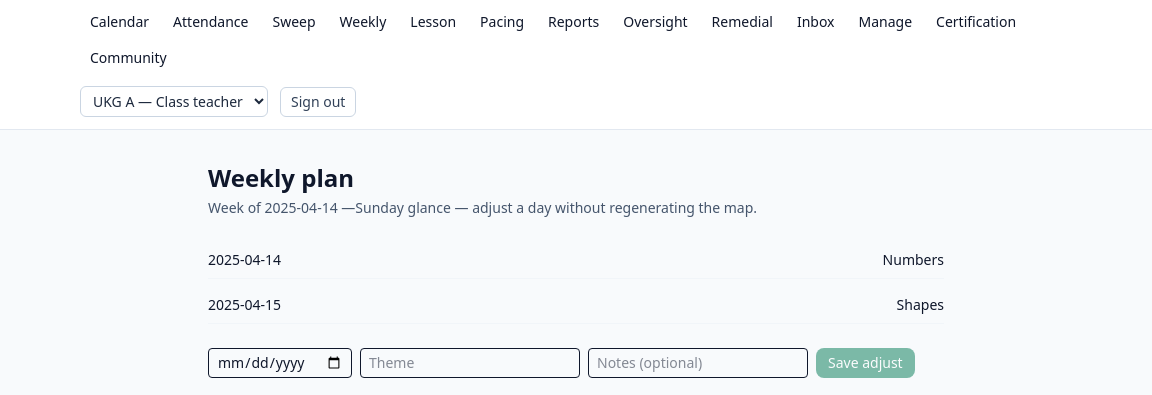
WeeklyPlanPage › disables save until date and theme are filled, and shows saving state
Expected: the button "Save adjust" is disabled, 816,348 -> 915,378
In the date field named "Day date": point(280, 363) 208,348 -> 352,378, type "2025-04-14"
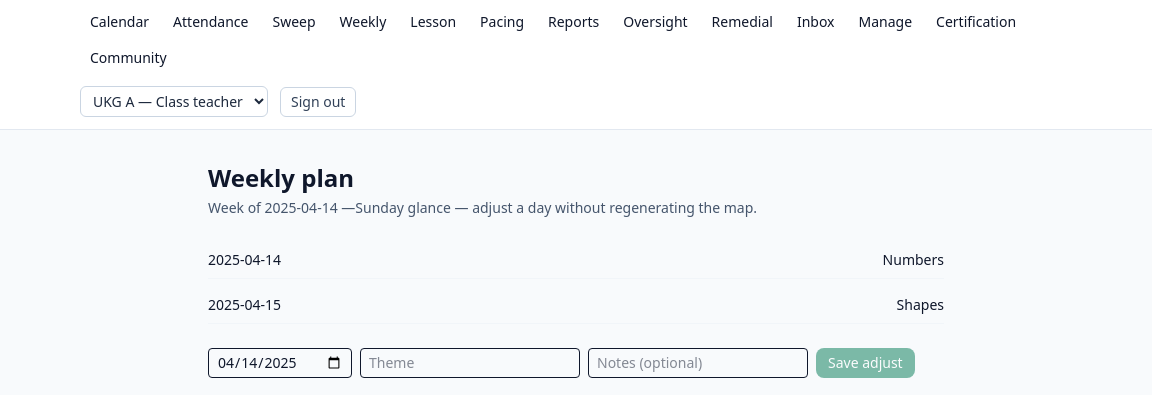
In the field labelled "Theme": point(470, 363) 360,348 -> 580,378, type "Adjusted theme"
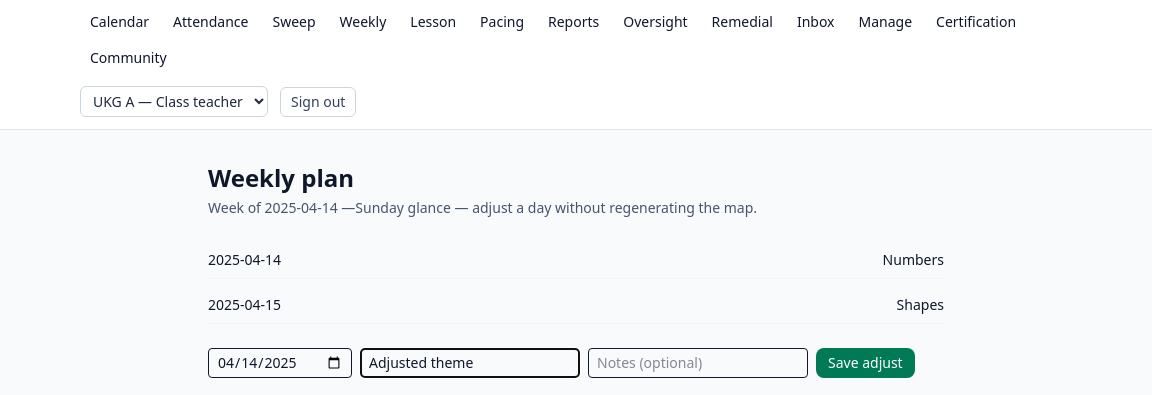
Now the button "Save adjust" is enabled
Click the button "Save adjust": point(865, 363) 816,348 -> 915,378
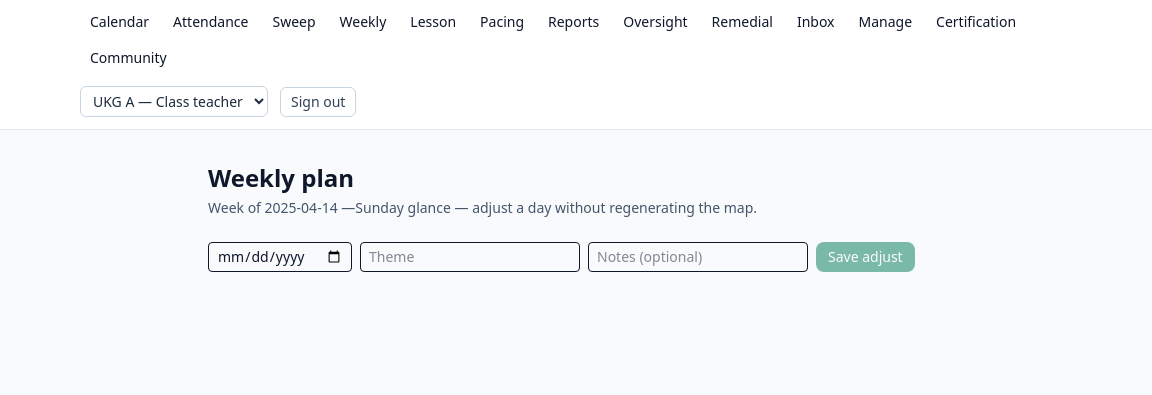
Now the button named "saving" is disabled, box 816,242 -> 915,272
